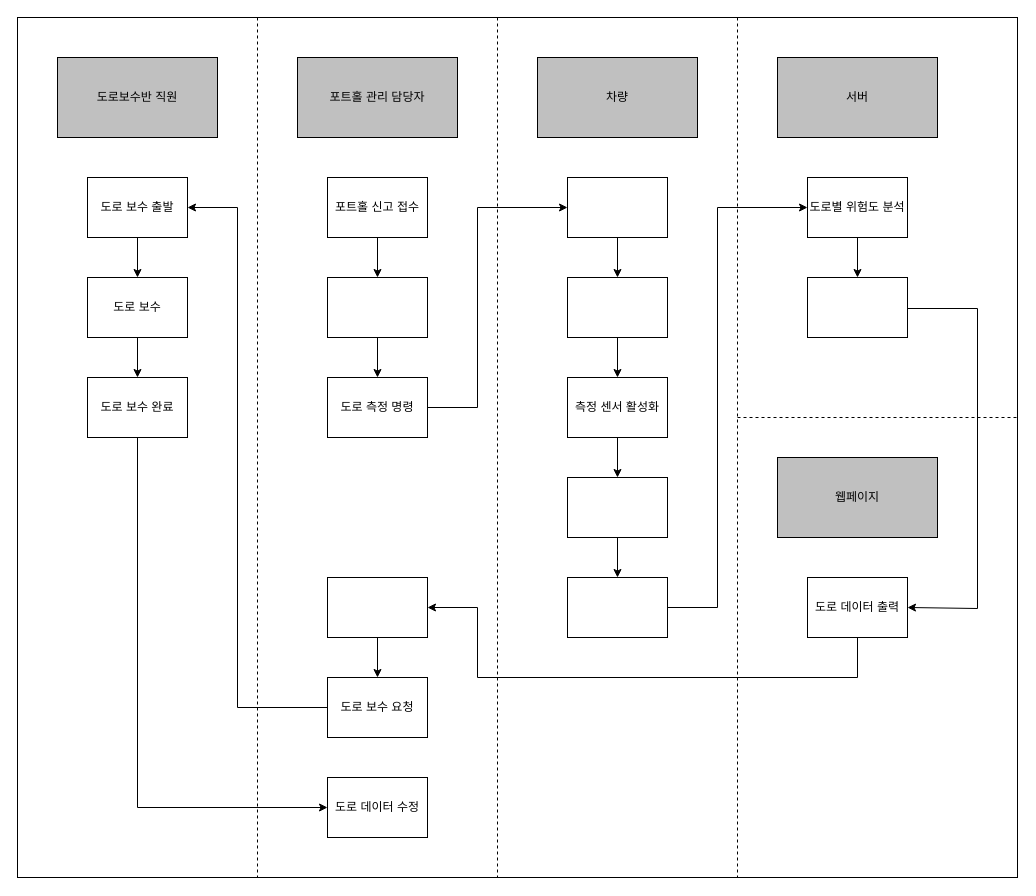
Image size: 1036x896. Some labels were removed from this diagram. The centre of each missing label's shape, as x and y in pixels:
도로 데이터 조회: (x=377, y=607)
도로 측정 시작: (x=617, y=207)
측정 도로 지정: (x=377, y=307)
포트홀 감지: (x=617, y=307)
포트홀 데이터 DB 저장: (x=857, y=307)
포트홀 데이터 전송: (x=617, y=607)
포트홀 측정: (x=617, y=507)
